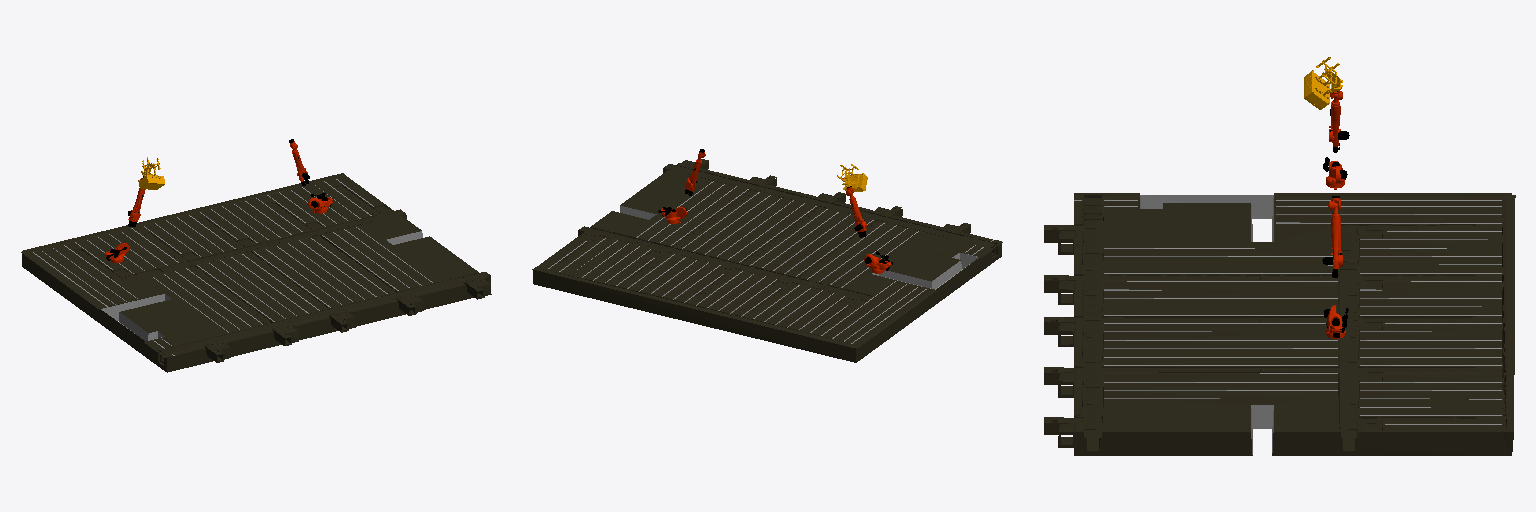
robot.urdf — tez_cell:
<?xml version="1.0"?>
<robot name ="tez_cell">

  <link name="base_link">
    <visual>
      <origin rpy="0 0 0" xyz="0 0 0"/>
      <geometry>
        <mesh filename="package://tez_description/mesh/reduced_details/spannfeld.dae"/>
      </geometry>
    </visual>
    <collision>
      <origin rpy="0 0 0" xyz="0 0 0"/>
      <geometry>
        <mesh filename="package://tez_description/mesh/reduced_details/spannfeld.dae"/>
      </geometry>
    </collision>
  </link>

  <!-- Linear Axis -->
  <joint name="linear_axis_pos" type="fixed">
    <origin rpy="0 0 0" xyz="0 0 0"/>
    <parent link="base_link"/>
    <child link="linear_axis"/>
  </joint>

  <link name="linear_axis">
    <visual>
      <origin rpy="0 0 0" xyz="0 0 0"/>
      <geometry>
        <mesh filename="package://tez_description/mesh/reduced_details/linear_axis.dae"/>
      </geometry>
    </visual>
    <collision>
      <origin rpy="0 0 0" xyz="0 0 0"/>
      <geometry>
        <mesh filename="package://tez_description/mesh/reduced_details/linear_axis.dae"/>
      </geometry>
    </collision>
  </link>

  <!-- KR210_1 -->
  <joint name="kr210_1_linear_axis_joint" type="prismatic">
    <origin rpy="0 0 0" xyz="0 0 0.487"/>
    <parent link="linear_axis"/>
    <child link="KR210_1_socket"/>
    <axis xyz="1.0 0.0 0.0"/>
    <limit effort="100" lower="-9" upper="0" velocity="100"/> <!--upper = 9 in origin version-->
  </joint>

  <link name="KR210_1_socket">
    <visual>
      <origin rpy="0 0 0" xyz="0 0 0"/>
      <geometry>
        <mesh filename="package://tez_description/mesh/reduced_details/KR210_3100_ultra_socket.dae"/>
      </geometry>
    </visual>
    <collision>
      <origin rpy="0 0 0" xyz="0 0 0"/>
      <geometry>
        <mesh filename="package://tez_description/mesh/reduced_details/KR210_3100_ultra_socket.dae"/>
      </geometry>
    </collision>
  </link>

  <joint name="kr210_1_joint_1" type="revolute">
    <origin rpy="0 0 -1.5707963267948966" xyz="0 0 0.5256"/>
    <parent link="KR210_1_socket"/>
    <child link="KR210_1_A1"/>
    <axis xyz="0.0 0.0 -1.0"/>
    <limit effort="100" lower="-3.22886" upper="3.22886" velocity="0.1"/>
  </joint>

  <link name="KR210_1_A1">
    <visual>
      <origin rpy="0 0 0" xyz="0 0 0"/>
      <geometry>
        <mesh filename="package://tez_description/mesh/reduced_details/KR210_3100_ultra_A1.dae"/>
      </geometry>
    </visual>
    <collision>
      <origin rpy="0 0 0" xyz="0 0 0"/>
      <geometry>
        <mesh filename="package://tez_description/mesh/reduced_details/KR210_3100_ultra_A1.dae"/>
      </geometry>
    </collision>
  </link>

  <joint name="kr210_1_joint_2" type="revolute">
    <origin rpy="1.5707963267948966 0 0" xyz="0.005 -0.35 0.45"/>
    <parent link="KR210_1_A1"/>
    <child link="KR210_1_A2"/>
    <axis xyz="1.0 0.0 0.0"/>
    <limit effort="10000" lower="-2.443460952792061" upper="-0.08726646259971647" velocity="0.1"/>
  </joint>

  <link name="KR210_1_A2">
    <visual>
      <origin rpy="0 0 0" xyz="0 0 0"/>
      <geometry>
        <mesh filename="package://tez_description/mesh/reduced_details/KR210_3100_ultra_A2.dae"/>
      </geometry>
    </visual>
    <collision>
      <origin rpy="0 0 0" xyz="0 0 0"/>
      <geometry>
        <mesh filename="package://tez_description/mesh/reduced_details/KR210_3100_ultra_A2.dae"/>
      </geometry>
    </collision>
  </link>

  <joint name="kr210_1_joint_3" type="revolute">
    <origin rpy="-1.5707963267948966 0 0" xyz="-0.183 0 1.35"/>
    <parent link="KR210_1_A2"/>
    <child link="KR210_1_A3"/>
    <axis xyz="1.0 0.0 0.0"/>
    <limit effort="100" lower="-2.0943951023931953" upper="2.705260340591211" velocity="0.1"/>
  </joint>

  <link name="KR210_1_A3">
    <visual>
      <origin rpy="0 0 0" xyz="0 0 0"/>
      <geometry>
        <mesh filename="package://tez_description/mesh/reduced_details/KR210_3100_ultra_A3.dae"/>
      </geometry>
    </visual>
    <collision>
      <origin rpy="0 0 0" xyz="0 0 0"/>
      <geometry>
        <mesh filename="package://tez_description/mesh/reduced_details/KR210_3100_ultra_A3.dae"/>
      </geometry>
    </collision>
  </link>

  <joint name="kr210_1_joint_4" type="revolute">
    <origin rpy="0 0 0" xyz="0.178 -0.962 -0.041"/>
    <parent link="KR210_1_A3"/>
    <child link="KR210_1_A4"/>
    <axis xyz="0.0 1.0 0.0"/>
    <limit effort="100" lower="-6.10865" upper="6.10865" velocity="100"/>
  </joint>

  <link name="KR210_1_A4">
    <visual>
      <origin rpy="0 0 0" xyz="0 0 0"/>
      <geometry>
        <mesh filename="package://tez_description/mesh/reduced_details/KR210_3100_ultra_A4.dae"/>
      </geometry>
    </visual>
    <collision>
      <origin rpy="0 0 0" xyz="0 0 0"/>
      <geometry>
        <mesh filename="package://tez_description/mesh/reduced_details/KR210_3100_ultra_A4.dae"/>
      </geometry>
    </collision>
  </link>

  <joint name="kr210_1_joint_5" type="revolute">
    <origin rpy="0 0 0" xyz="0 -0.438 0"/>
    <parent link="KR210_1_A4"/>
    <child link="KR210_1_A5"/>
    <axis xyz="1.0 0.0 0.0"/>
    <limit effort="100" lower="-2.138028333693054" upper="2.138028333693054" velocity="0.1"/>
  </joint>

  <link name="KR210_1_A5">
    <visual>
      <origin rpy="0 0 0" xyz="0 0 0"/>
      <geometry>
        <mesh filename="package://tez_description/mesh/reduced_details/KR210_3100_ultra_A5.dae"/>
      </geometry>
    </visual>
    <collision>
      <origin rpy="0 0 0" xyz="0 0 0"/>
      <geometry>
        <mesh filename="package://tez_description/mesh/reduced_details/KR210_3100_ultra_A5.dae"/>
      </geometry>
    </collision>
  </link>

  <joint name="kr210_1_joint_6" type="revolute">
    <origin rpy="0 0 0" xyz="0 -0.24 0"/>
    <parent link="KR210_1_A5"/>
    <child link="KR210_1_A6"/>
    <axis xyz="0.0 1.0 0.0"/>
    <limit effort="100" lower="-6.10865" upper="6.10865" velocity="2"/>
  </joint>

  <link name="KR210_1_A6">
    <visual>
      <origin rpy="0 0 0" xyz="0 0 0"/>
      <geometry>
        <mesh filename="package://tez_description/mesh/reduced_details/KR210_3100_ultra_A6.dae"/>
      </geometry>
    </visual>
    <collision>
      <origin rpy="0 0 0" xyz="0 0 0"/>
      <geometry>
        <mesh filename="package://tez_description/mesh/reduced_details/KR210_3100_ultra_A6.dae"/>
      </geometry>
    </collision>
  </link>


  <!-- <link name="EndEffector_Link" />

  <joint name="EndEffector" type="fixed">
    <origin xyz="0 0 -0.061525" rpy="0 0 0" />
    <parent link="KR210_1_A6" />
    <child link="EndEffector_Link" />
    <axis xyz="0 0 0" />
  </joint> -->

  
  
  
  
  
  <!-- KR210_2 -->
  <joint name="kr210_2_linear_axis_joint" type="prismatic">
    <origin rpy="0 0 3.1415" xyz="-9.0 0 0.487"/>
    <parent link="linear_axis"/>
    <child link="KR210_2_socket"/>
    <axis xyz="1.0 0.0 0.0"/>
    <limit effort="100" lower="-9" upper="0" velocity="100"/> <!--upper = 9 in origin version-->
  </joint>

  <link name="KR210_2_socket">
    <visual>
      <origin rpy="0 0 0" xyz="0 0 0"/>
      <geometry>
        <mesh filename="package://tez_description/mesh/reduced_details/KR210_3100_ultra_socket.dae"/>
      </geometry>
    </visual>
    <collision>
      <origin rpy="0 0 0" xyz="0 0 0"/>
      <geometry>
        <mesh filename="package://tez_description/mesh/reduced_details/KR210_3100_ultra_socket.dae"/>
      </geometry>
    </collision>
  </link>

  <joint name="kr210_2_joint_1" type="revolute">
    <origin rpy="0 0 -1.5707963267948966" xyz="0 0 0.5256"/>
    <parent link="KR210_2_socket"/>
    <child link="KR210_2_A1"/>
    <axis xyz="0.0 0.0 -1.0"/>
    <limit effort="100" lower="-3.22886" upper="3.22886" velocity="0.1"/>
  </joint>

  <link name="KR210_2_A1">
    <visual>
      <origin rpy="0 0 0" xyz="0 0 0"/>
      <geometry>
        <mesh filename="package://tez_description/mesh/reduced_details/KR210_3100_ultra_A1.dae"/>
      </geometry>
    </visual>
    <collision>
      <origin rpy="0 0 0" xyz="0 0 0"/>
      <geometry>
        <mesh filename="package://tez_description/mesh/reduced_details/KR210_3100_ultra_A1.dae"/>
      </geometry>
    </collision>
  </link>

  <joint name="kr210_2_joint_2" type="revolute">
    <origin rpy="1.5707963267948966 0 0" xyz="0.005 -0.35 0.45"/>
    <parent link="KR210_2_A1"/>
    <child link="KR210_2_A2"/>
    <axis xyz="1.0 0.0 0.0"/>
    <limit effort="10000" lower="-2.443460952792061" upper="-0.08726646259971647" velocity="0.1"/>
  </joint>

  <link name="KR210_2_A2">
    <visual>
      <origin rpy="0 0 0" xyz="0 0 0"/>
      <geometry>
        <mesh filename="package://tez_description/mesh/reduced_details/KR210_3100_ultra_A2.dae"/>
      </geometry>
    </visual>
    <collision>
      <origin rpy="0 0 0" xyz="0 0 0"/>
      <geometry>
        <mesh filename="package://tez_description/mesh/reduced_details/KR210_3100_ultra_A2.dae"/>
      </geometry>
    </collision>
  </link>

  <joint name="kr210_2_joint_3" type="revolute">
    <origin rpy="-1.5707963267948966 0 0" xyz="-0.183 0 1.35"/>
    <parent link="KR210_2_A2"/>
    <child link="KR210_2_A3"/>
    <axis xyz="1.0 0.0 0.0"/>
    <limit effort="100" lower="-2.0943951023931953" upper="2.705260340591211" velocity="0.1"/>
  </joint>

  <link name="KR210_2_A3">
    <visual>
      <origin rpy="0 0 0" xyz="0 0 0"/>
      <geometry>
        <mesh filename="package://tez_description/mesh/reduced_details/KR210_3100_ultra_A3.dae"/>
      </geometry>
    </visual>
    <collision>
      <origin rpy="0 0 0" xyz="0 0 0"/>
      <geometry>
        <mesh filename="package://tez_description/mesh/reduced_details/KR210_3100_ultra_A3.dae"/>
      </geometry>
    </collision>
  </link>

  <joint name="kr210_2_joint_4" type="revolute">
    <origin rpy="0 0 0" xyz="0.178 -0.962 -0.041"/>
    <parent link="KR210_2_A3"/>
    <child link="KR210_2_A4"/>
    <axis xyz="0.0 1.0 0.0"/>
    <limit effort="100" lower="-6.10865" upper="6.10865" velocity="100"/>
  </joint>

  <link name="KR210_2_A4">
    <visual>
      <origin rpy="0 0 0" xyz="0 0 0"/>
      <geometry>
        <mesh filename="package://tez_description/mesh/reduced_details/KR210_3100_ultra_A4.dae"/>
      </geometry>
    </visual>
    <collision>
      <origin rpy="0 0 0" xyz="0 0 0"/>
      <geometry>
        <mesh filename="package://tez_description/mesh/reduced_details/KR210_3100_ultra_A4.dae"/>
      </geometry>
    </collision>
  </link>

  <joint name="kr210_2_joint_5" type="revolute">
    <origin rpy="0 0 0" xyz="0 -0.438 0"/>
    <parent link="KR210_2_A4"/>
    <child link="KR210_2_A5"/>
    <axis xyz="1.0 0.0 0.0"/>
    <limit effort="100" lower="-2.138028333693054" upper="2.138028333693054" velocity="0.1"/>
  </joint>

  <link name="KR210_2_A5">
    <visual>
      <origin rpy="0 0 0" xyz="0 0 0"/>
      <geometry>
        <mesh filename="package://tez_description/mesh/reduced_details/KR210_3100_ultra_A5.dae"/>
      </geometry>
    </visual>
    <collision>
      <origin rpy="0 0 0" xyz="0 0 0"/>
      <geometry>
        <mesh filename="package://tez_description/mesh/reduced_details/KR210_3100_ultra_A5.dae"/>
      </geometry>
    </collision>
  </link>

  <joint name="kr210_2_joint_6" type="revolute">
    <origin rpy="0 0 0" xyz="0 -0.24 0"/>
    <parent link="KR210_2_A5"/>
    <child link="KR210_2_A6"/>
    <axis xyz="0.0 1.0 0.0"/>
    <limit effort="100" lower="-6.10865" upper="6.10865" velocity="2"/>
  </joint>

  <link name="KR210_2_A6">
    <visual>
      <origin rpy="0 0 0" xyz="0 0 0"/>
      <geometry>
        <mesh filename="package://tez_description/mesh/reduced_details/KR210_3100_ultra_A6.dae"/>
      </geometry>
    </visual>
    <collision>
      <origin rpy="0 0 0" xyz="0 0 0"/>
      <geometry>
        <mesh filename="package://tez_description/mesh/reduced_details/KR210_3100_ultra_A6.dae"/>
      </geometry>
    </collision>
  </link>

  
  <joint name="EndEffector" type="fixed">
    <origin xyz="0 -0.01 0" rpy="0 0 1.5708" />
    <parent link="KR210_2_A6" />
    <child link="gripper" />
    <axis xyz="0 0 0" />
  </joint>

  <link name="gripper">
    <visual>
      <origin rpy="0 0 0" xyz="0 0 0"/>
      <geometry>
        <mesh filename="package://tez_description/mesh/collada/reduced_details/gripper.dae"/>
      </geometry>
    </visual>
    <collision>
      <origin rpy="0 0 0" xyz="0 0 0"/>
      <geometry>
        <mesh filename="package://tez_description/mesh/collada/reduced_details/gripper.dae"/>
      </geometry>
    </collision>
  </link>
  
  
  
  
  
  

  <!-- KR210_2 -->
  <!--<joint name="kr210_2_linear_axis_joint" type="prismatic">
    <origin rpy="0 0 3.14159" xyz="-1.5 0 0.487"/>
    <parent link="linear_axis"/>
    <child link="KR210_2_socket"/>
    <axis xyz="1.0 0.0 0.0"/>
    <limit effort="100" lower="1.5" upper="9" velocity="100"/>
  </joint>

  <link name="KR210_2_socket">
    <visual>
      <origin rpy="0 0 0" xyz="0 0 0"/>
      <geometry>
        <mesh filename="package://tez_description/mesh/reduced_details/KR210_3100_ultra_socket.dae"/>
      </geometry>
    </visual>
    <collision>
      <origin rpy="0 0 0" xyz="0 0 0"/>
      <geometry>
        <mesh filename="package://tez_description/mesh/reduced_details/KR210_3100_ultra_socket.dae"/>
      </geometry>
    </collision>
  </link>

  <joint name="kr210_2_joint_1" type="revolute">
    <origin rpy="0 0 0" xyz="0 0 0.5256"/>
    <parent link="KR210_2_socket"/>
    <child link="KR210_2_A1"/>
    <axis xyz="0.0 0.0 1.0"/>
    <limit effort="100" lower="-3.22886" upper="3.22886" velocity="100"/>
  </joint>

  <link name="KR210_2_A1">
    <visual>
      <origin rpy="0 0 0" xyz="0 0 0"/>
      <geometry>
        <mesh filename="package://tez_description/mesh/reduced_details/KR210_3100_ultra_A1.dae"/>
      </geometry>
    </visual>
    <collision>
      <origin rpy="0 0 0" xyz="0 0 0"/>
      <geometry>
        <mesh filename="package://tez_description/mesh/reduced_details/KR210_3100_ultra_A1.dae"/>
      </geometry>
    </collision>
  </link>

  <joint name="kr210_2_joint_2" type="revolute">
    <origin rpy="0 0 0" xyz="0.005 -0.35 0.45"/>
    <parent link="KR210_2_A1"/>
    <child link="KR210_2_A2"/>
    <axis xyz="1.0 0.0 0.0"/>
    <limit effort="10000" lower="-2.0944" upper="1.22173" velocity="100"/>
  </joint>

  <link name="KR210_2_A2">
    <visual>
      <origin rpy="0 0 0" xyz="0 0 0"/>
      <geometry>
        <mesh filename="package://tez_description/mesh/reduced_details/KR210_3100_ultra_A2.dae"/>
      </geometry>
    </visual>
    <collision>
      <origin rpy="0 0 0" xyz="0 0 0"/>
      <geometry>
        <mesh filename="package://tez_description/mesh/reduced_details/KR210_3100_ultra_A2.dae"/>
      </geometry>
    </collision>
  </link>

  <joint name="kr210_2_joint_3" type="revolute">
    <origin rpy="0 0 0" xyz="-0.183 0 1.35"/>
    <parent link="KR210_2_A2"/>
    <child link="KR210_2_A3"/>
    <axis xyz="1.0 0.0 0.0"/>
    <limit effort="100" lower="-2.0944" upper="2.70526" velocity="100"/>
  </joint>

  <link name="KR210_2_A3">
    <visual>
      <origin rpy="0 0 0" xyz="0 0 0"/>
      <geometry>
        <mesh filename="package://tez_description/mesh/reduced_details/KR210_3100_ultra_A3.dae"/>
      </geometry>
    </visual>
    <collision>
      <origin rpy="0 0 0" xyz="0 0 0"/>
      <geometry>
        <mesh filename="package://tez_description/mesh/reduced_details/KR210_3100_ultra_A3.dae"/>
      </geometry>
    </collision>
  </link>

  <joint name="kr210_2_joint_4" type="revolute">
    <origin rpy="0 0 0" xyz="0.178 -0.962 -0.041"/>
    <parent link="KR210_2_A3"/>
    <child link="KR210_2_A4"/>
    <axis xyz="0.0 1.0 0.0"/>
    <limit effort="100" lower="-6.10865" upper="6.10865" velocity="100"/>
  </joint>

  <link name="KR210_2_A4">
    <visual>
      <origin rpy="0 0 0" xyz="0 0 0"/>
      <geometry>
        <mesh filename="package://tez_description/mesh/reduced_details/KR210_3100_ultra_A4.dae"/>
      </geometry>
    </visual>
    <collision>
      <origin rpy="0 0 0" xyz="0 0 0"/>
      <geometry>
        <mesh filename="package://tez_description/mesh/reduced_details/KR210_3100_ultra_A4.dae"/>
      </geometry>
    </collision>
  </link>

  <joint name="kr210_2_joint_5" type="revolute">
    <origin rpy="0 0 0" xyz="0 -0.438 0"/>
    <parent link="KR210_2_A4"/>
    <child link="KR210_2_A5"/>
    <axis xyz="1.0 0.0 0.0"/>
    <limit effort="100" lower="-2.18166" upper="2.18166" velocity="100"/>
  </joint>

  <link name="KR210_2_A5">
    <visual>
      <origin rpy="0 0 0" xyz="0 0 0"/>
      <geometry>
        <mesh filename="package://tez_description/mesh/reduced_details/KR210_3100_ultra_A5.dae"/>
      </geometry>
    </visual>
    <collision>
      <origin rpy="0 0 0" xyz="0 0 0"/>
      <geometry>
        <mesh filename="package://tez_description/mesh/reduced_details/KR210_3100_ultra_A5.dae"/>
      </geometry>
    </collision>
  </link>

  <joint name="kr210_2_joint_6" type="revolute">
    <origin rpy="0 0 0" xyz="0 -0.24 0"/>
    <parent link="KR210_2_A5"/>
    <child link="KR210_2_A6"/>
    <axis xyz="0.0 1.0 0.0"/>
    <limit effort="100" lower="-6.10865" upper="6.10865" velocity="2"/>
  </joint>

  <link name="KR210_2_A6">
    <visual>
      <origin rpy="0 0 0" xyz="0 0 0"/>
      <geometry>
        <mesh filename="package://tez_description/mesh/reduced_details/KR210_3100_ultra_A6.dae"/>
      </geometry>
    </visual>
    <collision>
      <origin rpy="0 0 0" xyz="0 0 0"/>
      <geometry>
        <mesh filename="package://tez_description/mesh/reduced_details/KR210_3100_ultra_A6.dae"/>
      </geometry>
    </collision>
  </link>-->

  <!-- <link name="EndEffector_Link" />

  <joint name="EndEffector" type="fixed">
    <origin xyz="0 0 -0.061525" rpy="0 0 0" />
    <parent link="KR210_2_A6" />
    <child link="EndEffector_Link" />
    <axis xyz="0 0 0" />
  </joint> -->
</robot>

--- Render facts (derived) ---
Views: 3 orthographic renders of the robot side by side, from view 1: azimuth 30°, elevation 25°; view 2: azimuth 150°, elevation 25°; view 3: azimuth 270°, elevation 25°.
Model tez_cell with 17 links and 16 joints (12 revolute, 2 prismatic, 2 fixed), rooted at base_link, posed all joints at 0 but 2 set to mid-range because 0 is outside their limits (kr210_1_joint_2 = -1.27, kr210_2_joint_2 = -1.27).
Visible links, largest first — view 1: base_link; view 2: base_link; view 3: base_link, gripper, KR210_1_A3, KR210_1_A1.
Boxes of the visible links, x1,y1,x2,y2 form: base_link: (21,173,491,372); base_link: (532,159,1002,362); base_link: (1044,193,1515,455); gripper: (1304,57,1342,109); KR210_1_A3: (1322,223,1342,277); KR210_1_A1: (1324,305,1348,338).
Size in the robot's own frame: 14.55 by 11.88 by 5.83 metres.
12 mesh visuals loaded from 10 distinct referenced files (7 Collada DAE); not drawn: 5 (reference not matched to a file when rendering).
